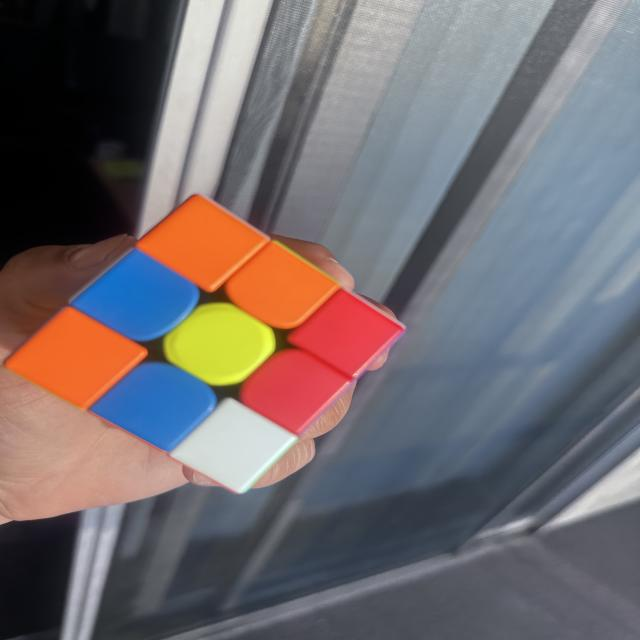sticker: (4, 306, 147, 412), (166, 395, 302, 495), (138, 194, 272, 293), (73, 250, 198, 342), (90, 362, 216, 453), (226, 237, 343, 330), (288, 290, 408, 379), (239, 349, 351, 437), (163, 302, 277, 387)
